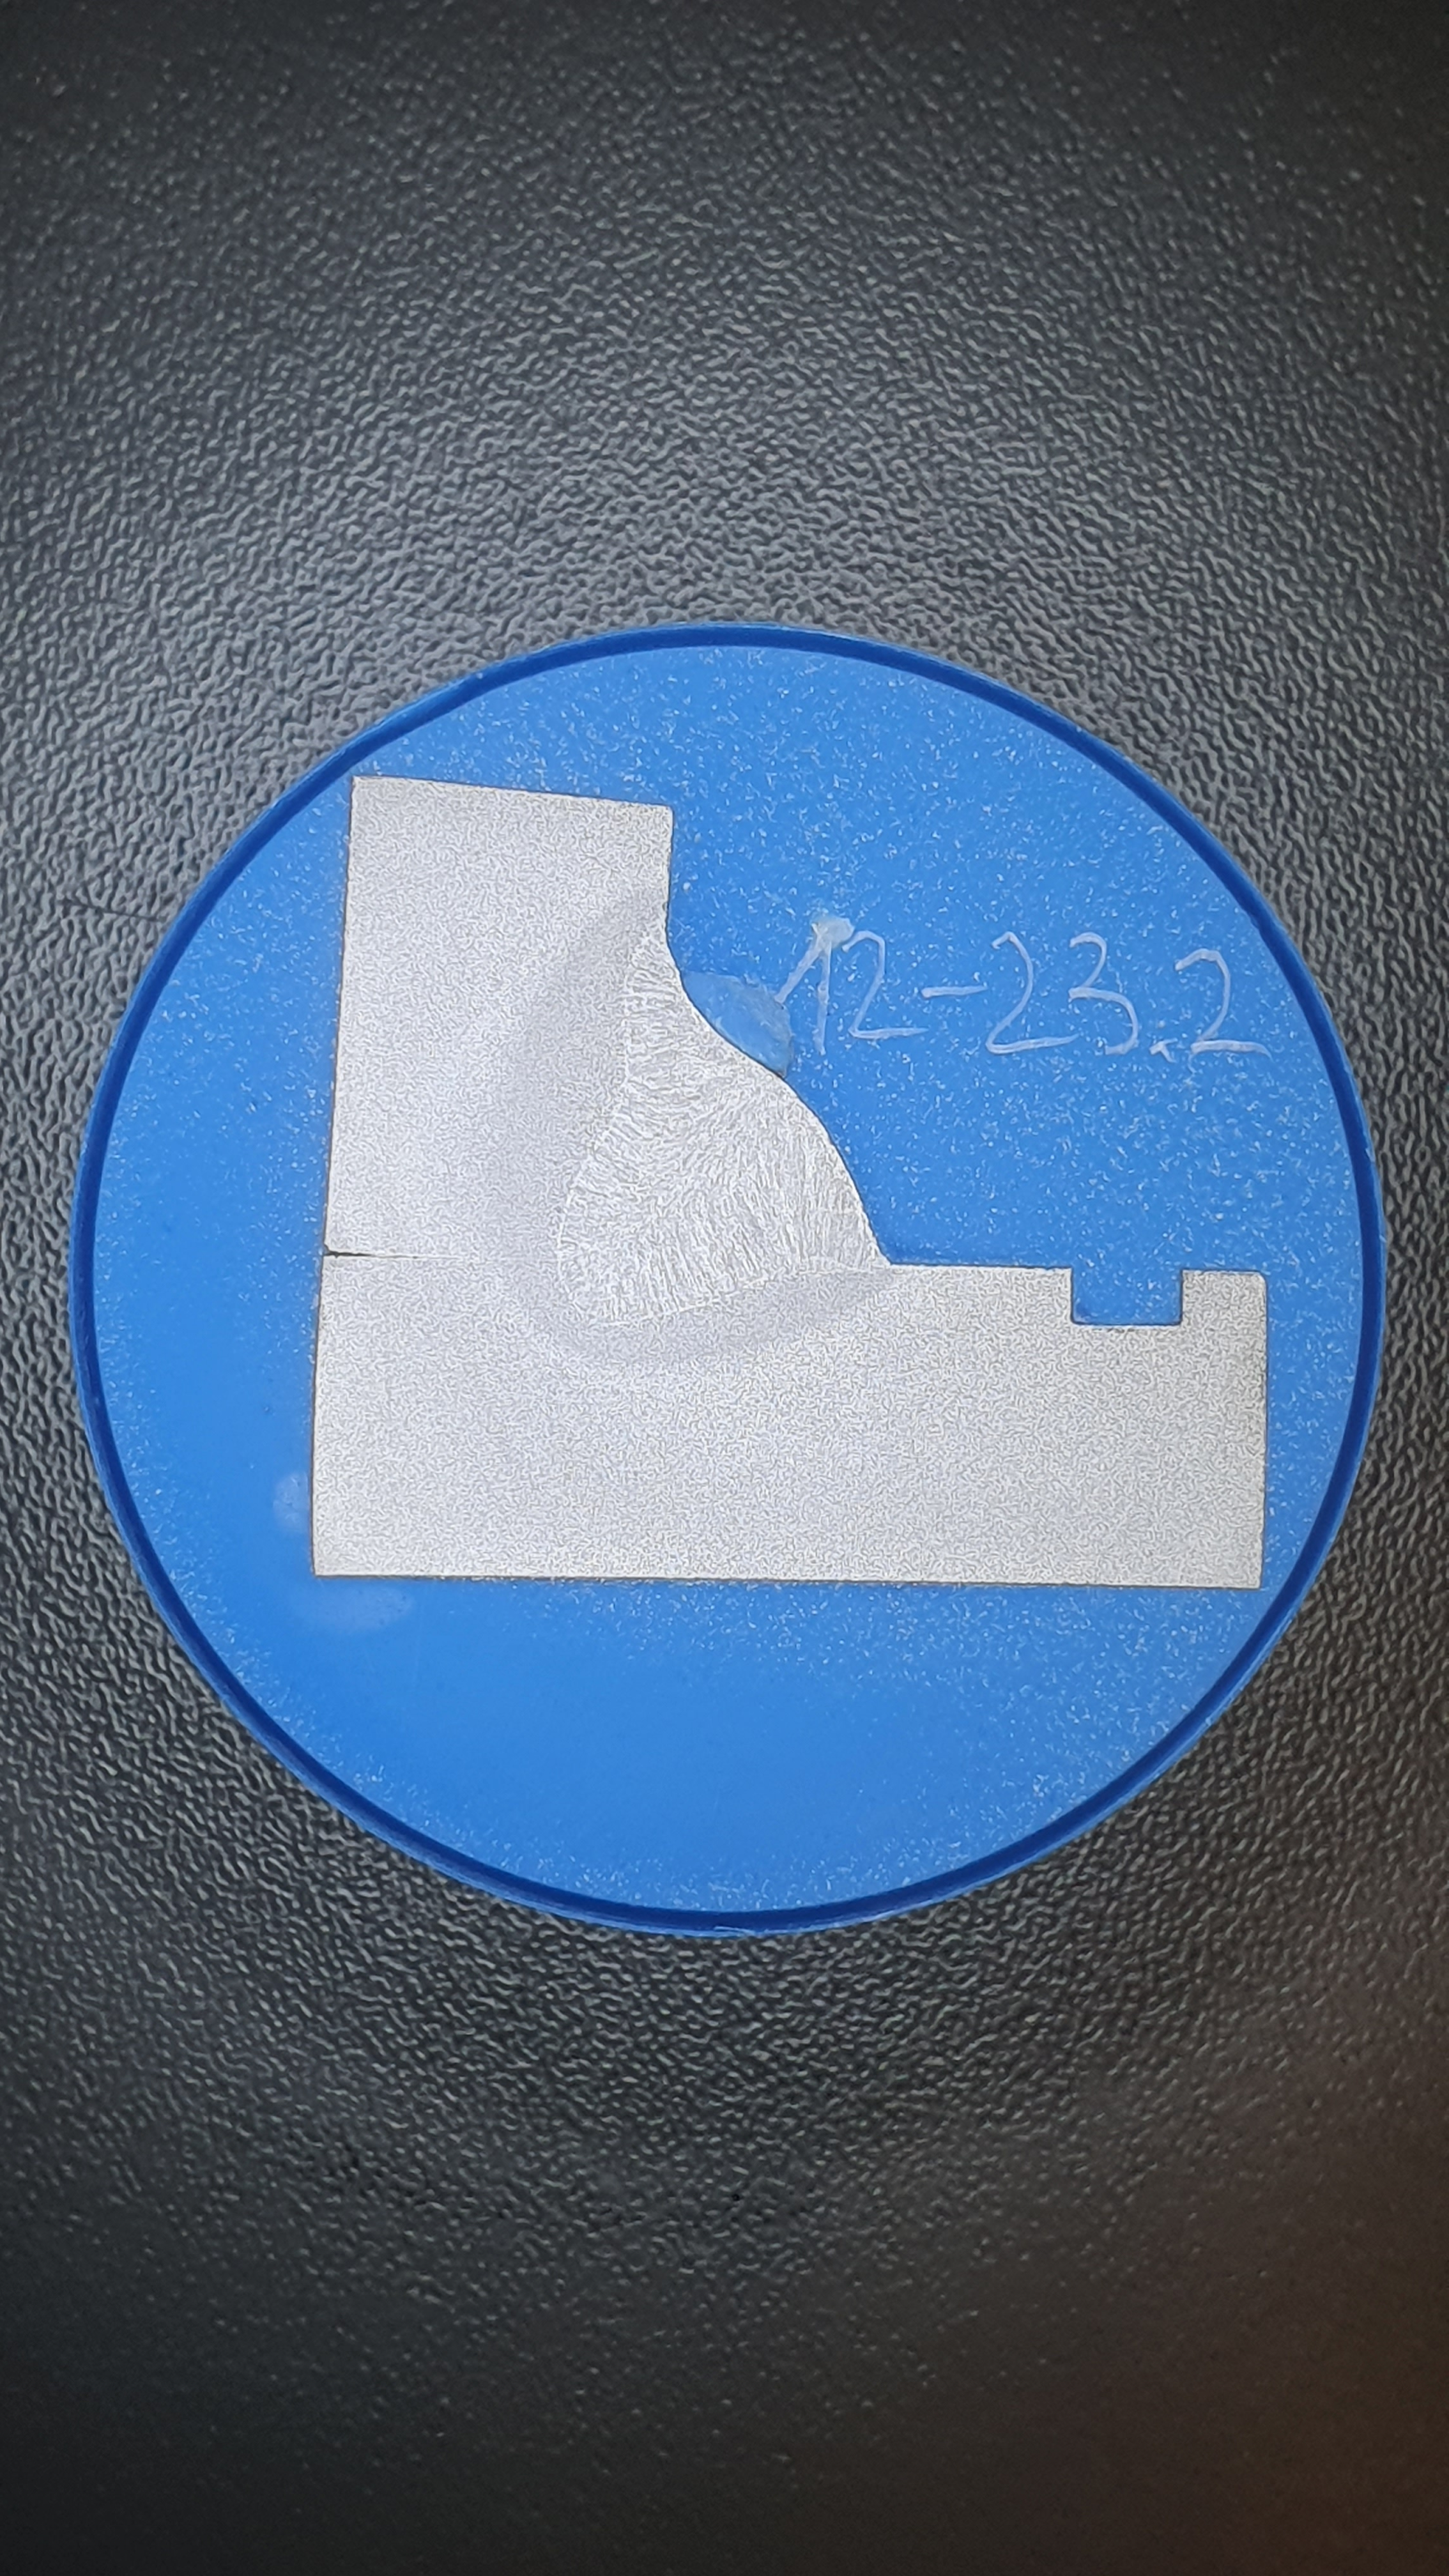Fusion: (557, 929, 889, 1324)
Hintergrund: (91, 645, 1365, 1908)
Metall: (312, 774, 1268, 1590)
Nebenbereich: (480, 878, 910, 1362)
